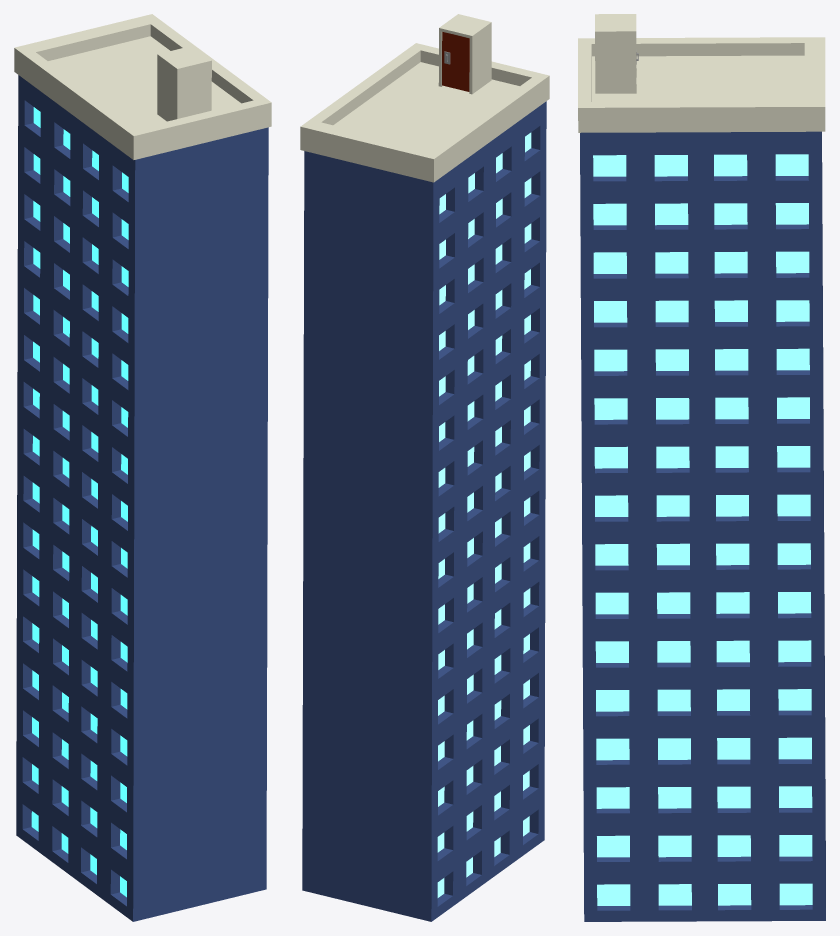
Rendered from building2.fbx.
The picture shows the model from 3 angles, left to right: view 1: azimuth 30°, elevation 25°; view 2: azimuth 150°, elevation 25°; view 3: azimuth 270°, elevation 25°; orthographic projection. The views are drawn at different scales.
Parts seen in each view (by area): view 1: buildingbody, top, windowlight, body; view 2: buildingbody, top, windowlight, body, door; view 3: buildingbody, windowlight, top, body.
Boxes of the visible parts, x1=… form: buildingbody: x1=16, y1=75, x2=268, y2=921; top: x1=14, y1=14, x2=271, y2=159; windowlight: x1=31, y1=107, x2=128, y2=897; body: x1=157, y1=46, x2=211, y2=121; buildingbody: x1=302, y1=101, x2=546, y2=921; top: x1=300, y1=43, x2=549, y2=182; windowlight: x1=437, y1=132, x2=531, y2=897; body: x1=438, y1=14, x2=491, y2=94; door: x1=442, y1=32, x2=469, y2=91; buildingbody: x1=580, y1=131, x2=825, y2=921; windowlight: x1=593, y1=154, x2=812, y2=905; top: x1=578, y1=37, x2=825, y2=132; body: x1=595, y1=14, x2=636, y2=93.
Bounding box in the file's own units: 1200 × 6955 × 1804.
